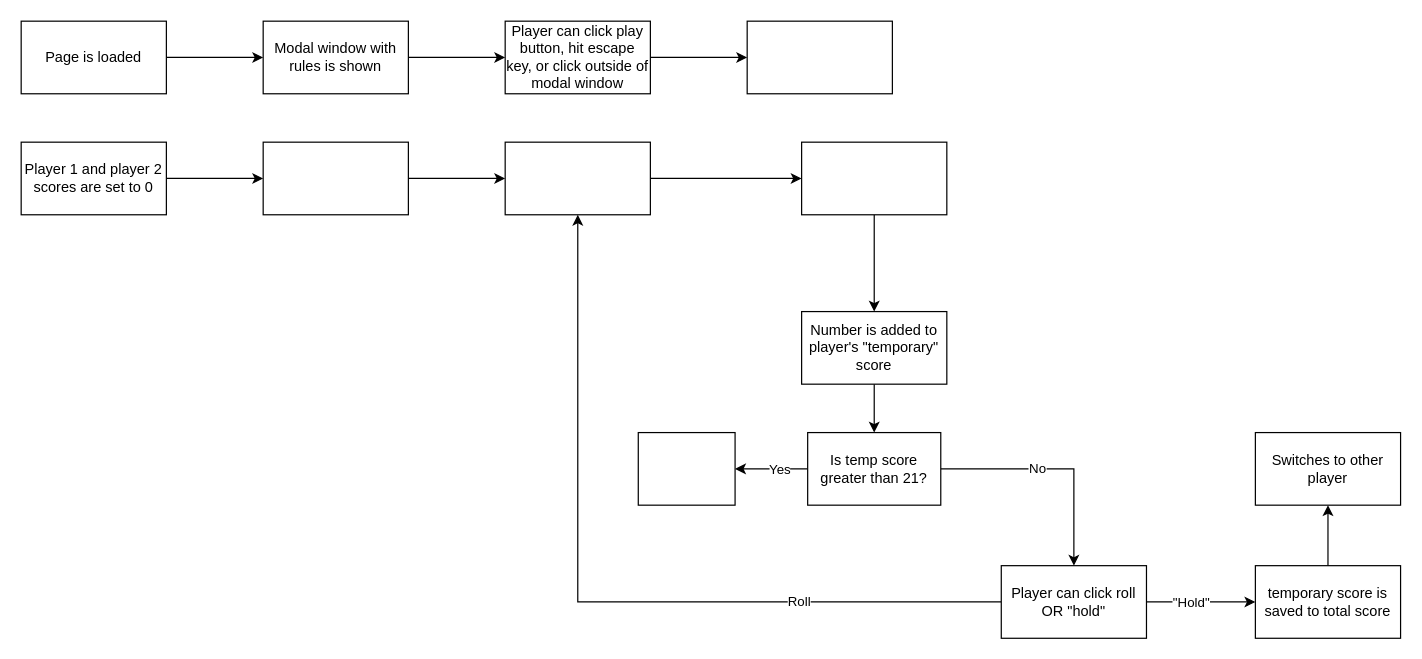
The diagram is 1422 pixels wide and 659 high, and some of its shapes have lost their labels. The shapes that lost their labels are listed below. From the top down, each one's centre as x and y in pixels, then its label:
At (819,57): "Modal window closes, game board is revealed".
At (335,178): "Player's turn to roll".
At (577,178): "Player clicks roll".
At (873,178): "Random integer between 1-6".
At (686,468): "Score is not saved and switches to other player".
